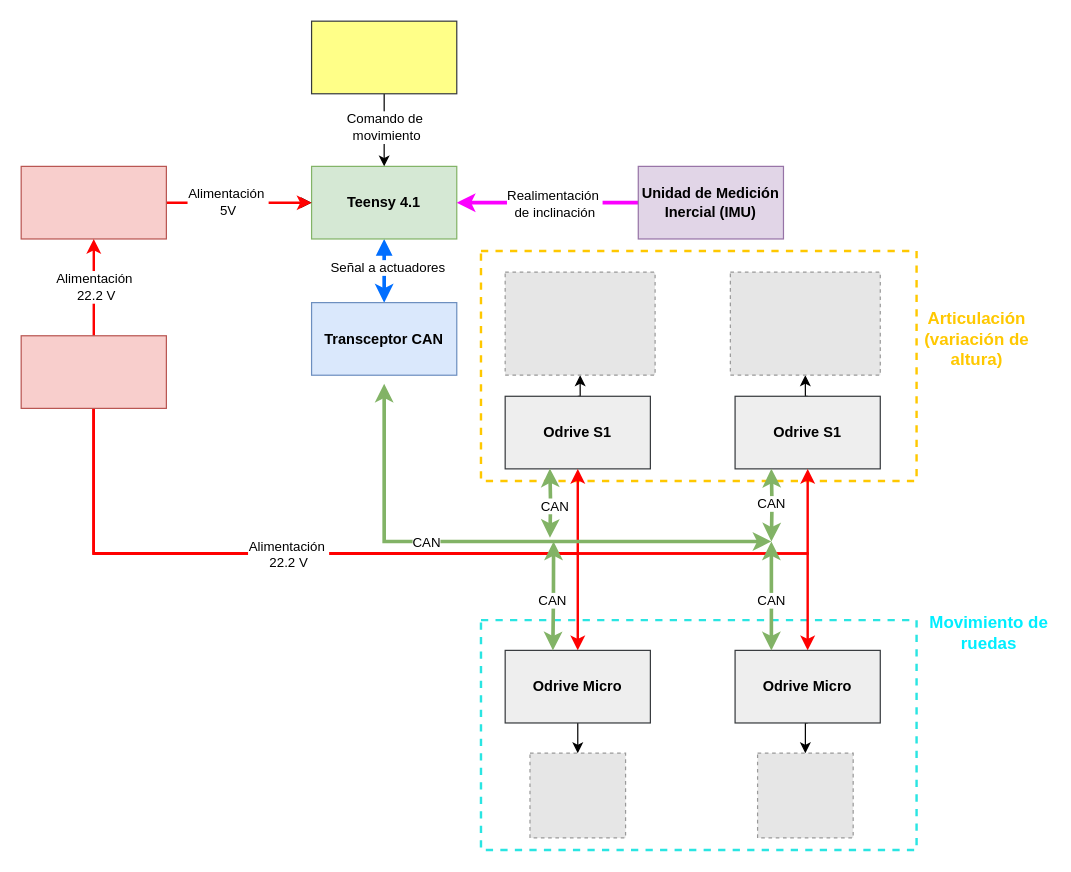
Some shapes in this 1071 by 872 pixel diagram are drawn without their labels. Grey dashed boxes stand in for pictures. Here are the shapes that lost their labels. From the top down, the centre of each, then its label:
[383,57]: Módulo Bluetooth
[93,202]: Regulador 5V
[93,371]: Batería LiPo 6S 5200 mAh
